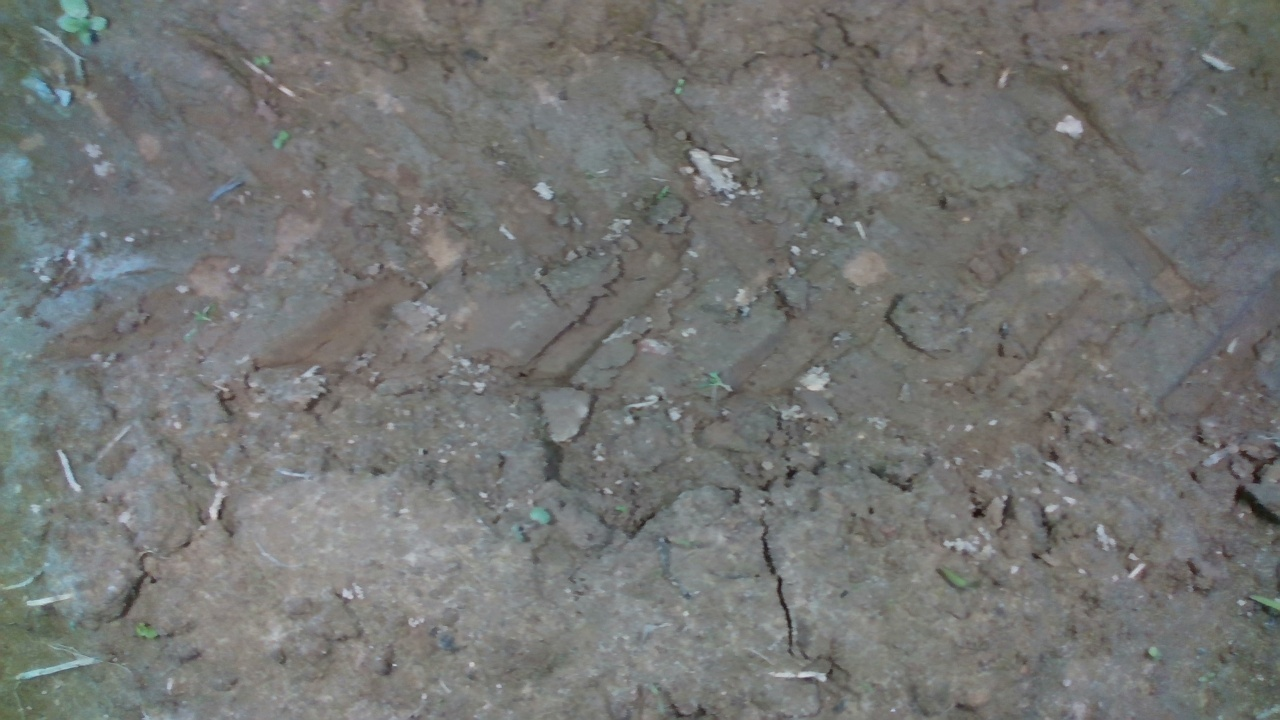weed: (270, 128, 290, 150), (673, 76, 685, 96), (251, 54, 271, 66)
